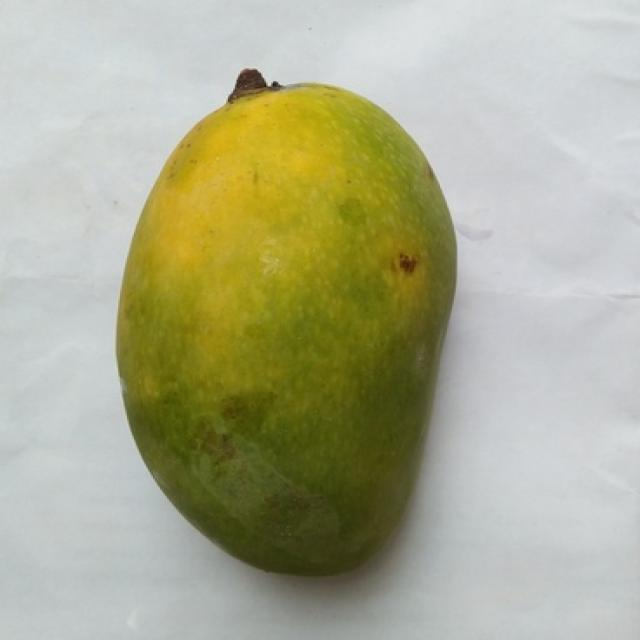Mango: (117, 70, 456, 574)
